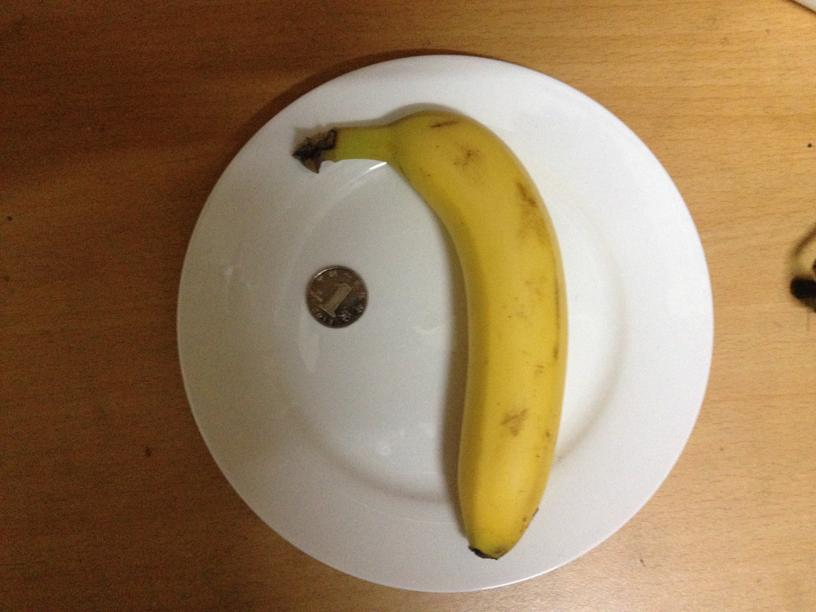banana: (352, 100, 566, 558)
coin: (303, 261, 368, 327)
